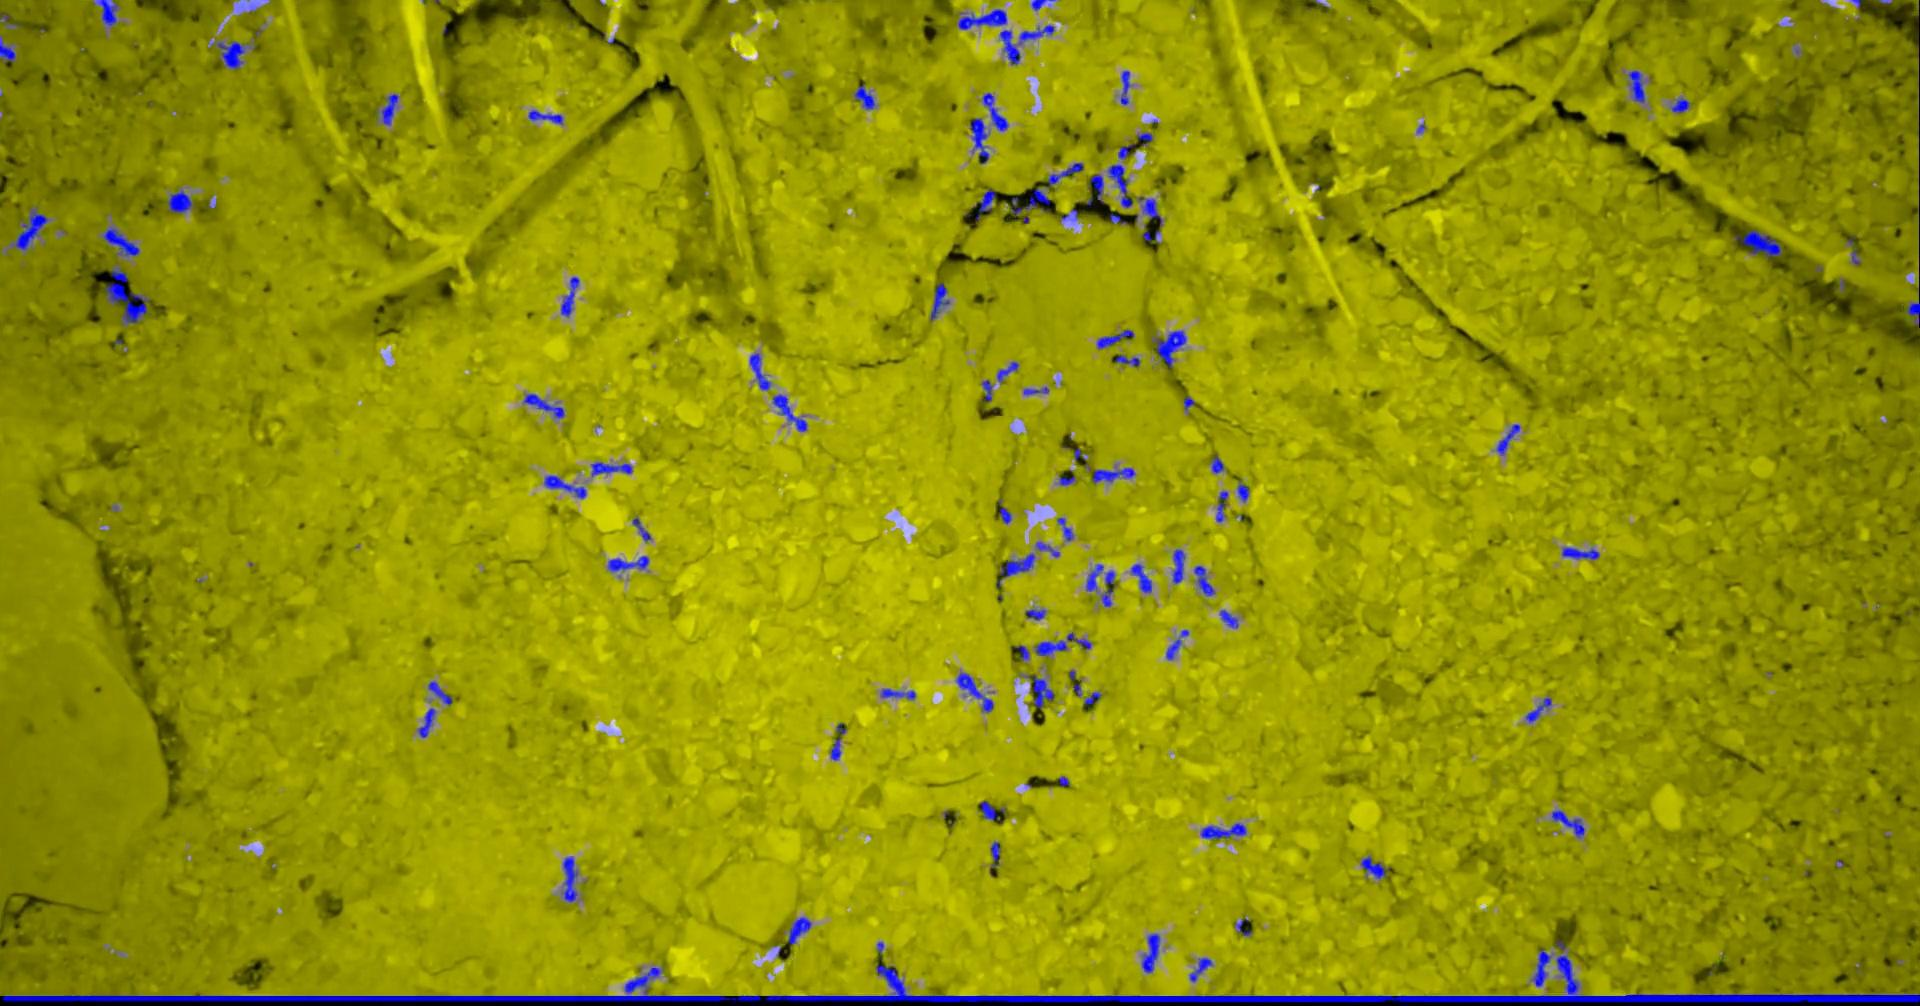ant: (104, 267, 149, 323), (11, 206, 47, 249), (1733, 229, 1782, 260), (956, 672, 992, 711), (772, 392, 806, 431), (996, 553, 1034, 587), (1006, 187, 1049, 216), (1153, 330, 1185, 368), (957, 8, 1006, 29), (1107, 164, 1131, 207), (523, 392, 564, 418), (102, 227, 138, 255), (982, 91, 1008, 130), (543, 475, 585, 498), (212, 39, 244, 69), (1550, 810, 1583, 837), (969, 118, 988, 163), (1027, 674, 1053, 708), (1048, 163, 1083, 185), (560, 276, 579, 316), (1200, 823, 1246, 840), (1531, 948, 1550, 986), (749, 353, 770, 389), (1096, 329, 1133, 348), (999, 29, 1020, 64), (1138, 196, 1161, 226), (1496, 423, 1519, 453), (376, 93, 397, 124), (930, 283, 949, 319), (561, 856, 577, 901), (1142, 934, 1159, 972), (787, 916, 811, 944), (607, 555, 648, 572), (973, 189, 996, 218), (1091, 467, 1134, 483), (1018, 25, 1053, 44), (1192, 565, 1214, 594), (1360, 856, 1389, 878), (427, 681, 452, 705), (1525, 697, 1550, 721), (1084, 173, 1103, 205), (1130, 563, 1150, 592), (590, 462, 632, 476), (93, 0, 116, 25), (1627, 70, 1644, 102), (417, 708, 436, 737), (1189, 956, 1211, 981), (527, 109, 563, 124), (1084, 563, 1103, 591), (168, 191, 192, 212), (855, 83, 874, 109), (996, 361, 1018, 382), (1561, 546, 1599, 559), (1035, 640, 1065, 655), (1101, 570, 1114, 606), (1065, 631, 1090, 649), (979, 800, 999, 821), (632, 518, 650, 541), (1057, 517, 1073, 541), (1172, 549, 1183, 583), (0, 36, 15, 61), (1164, 636, 1181, 659), (1035, 541, 1059, 556), (1215, 490, 1227, 522), (1219, 608, 1238, 627), (881, 688, 916, 699), (998, 498, 1011, 523), (1068, 669, 1081, 695), (989, 841, 999, 873), (1142, 224, 1159, 241), (1906, 302, 1919, 326), (1120, 70, 1129, 104), (1670, 97, 1689, 112), (1114, 354, 1139, 366), (1234, 918, 1251, 935), (1083, 691, 1101, 705), (1031, 0, 1055, 10), (1025, 608, 1045, 620), (830, 737, 841, 760), (1237, 483, 1250, 500), (1211, 453, 1223, 473), (1117, 144, 1133, 158), (1015, 645, 1029, 661), (1109, 212, 1126, 224), (982, 379, 990, 401), (1137, 132, 1152, 145), (1023, 386, 1048, 394), (1058, 475, 1074, 485)
